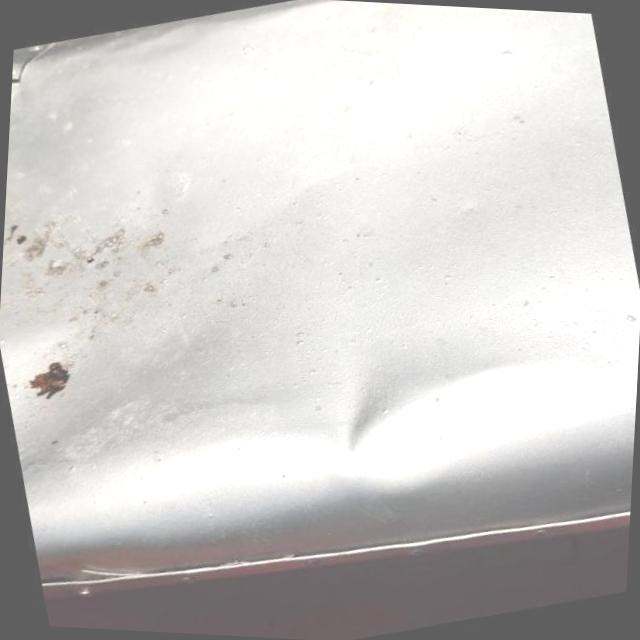dent: (272, 322, 440, 488)
